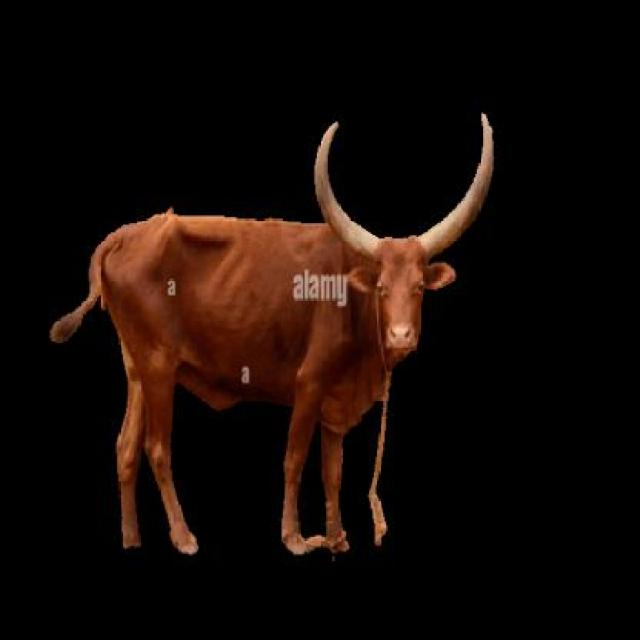Cow: (48, 114, 498, 561)
